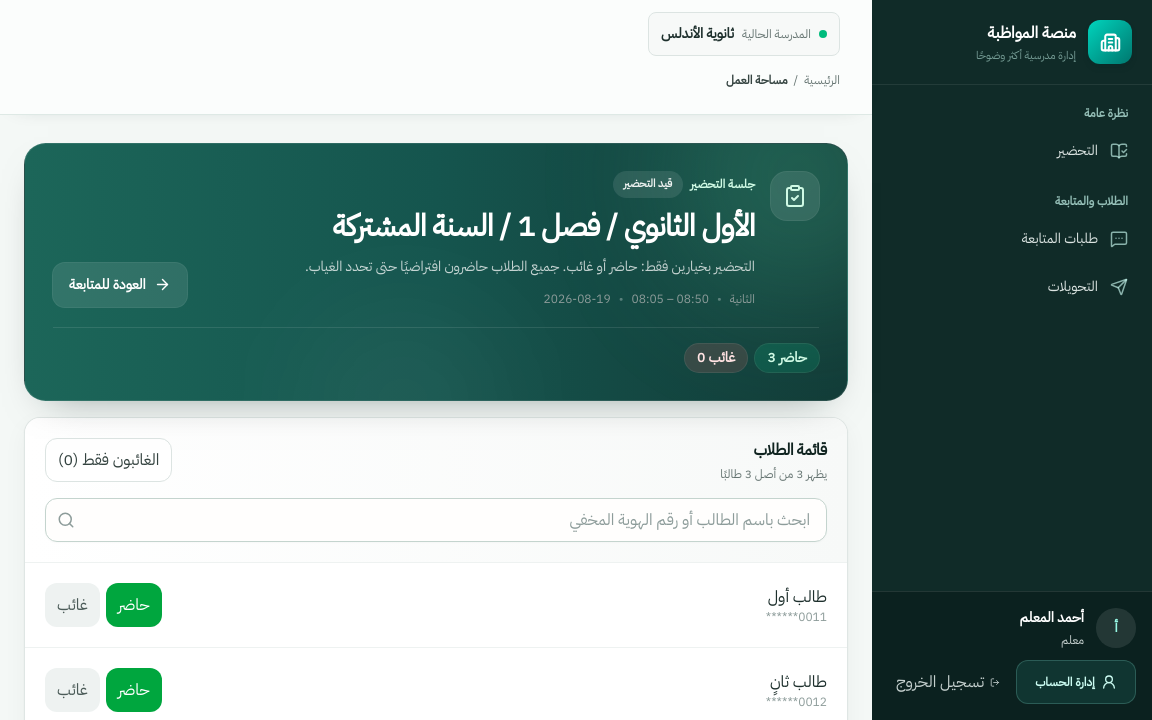
Scenario: attendance › refreshes the roster and keeps marks when the server reports ROSTER_CHANGED
The width and height of the screenshot is (1152, 720).
What coordinates should you click on to do the following:
click the button "غائب" in the row of "طالب أول"
I would click on:
 (72, 604)
Its box is [45, 582, 100, 626].
(page scrolled)
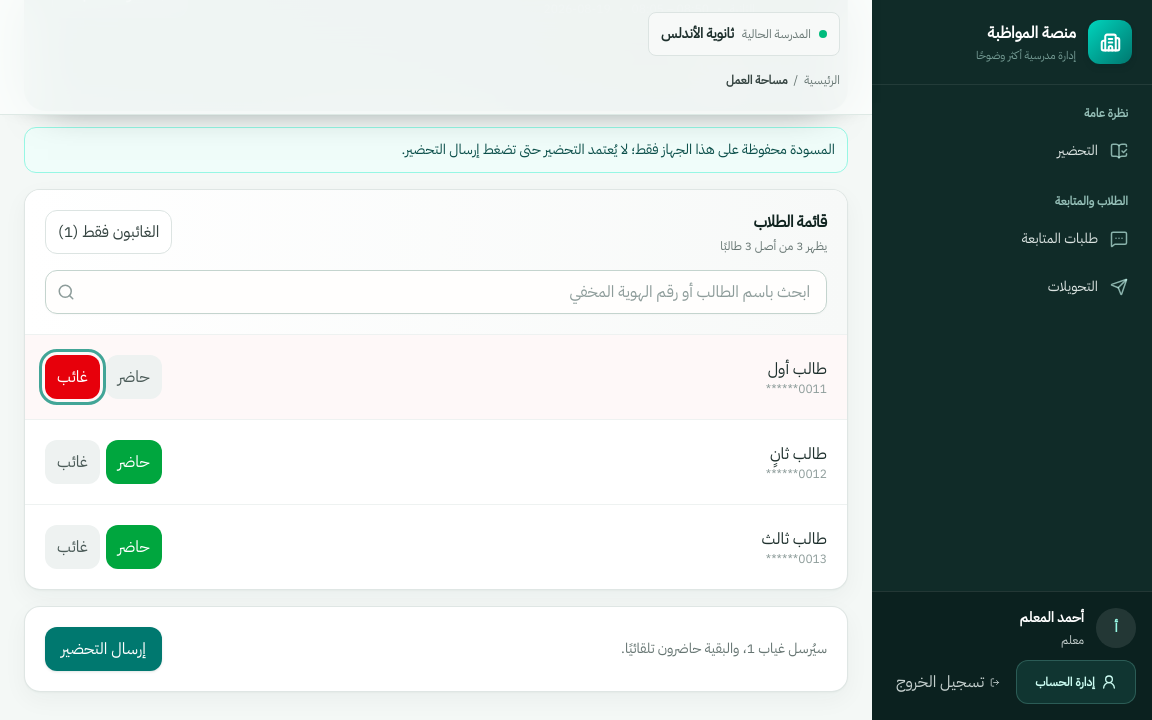
What coordinates should you click on to do the following:
click the button with test id "submit-attendance"
I would click on:
 (103, 648)
Its box is [45, 626, 162, 670].
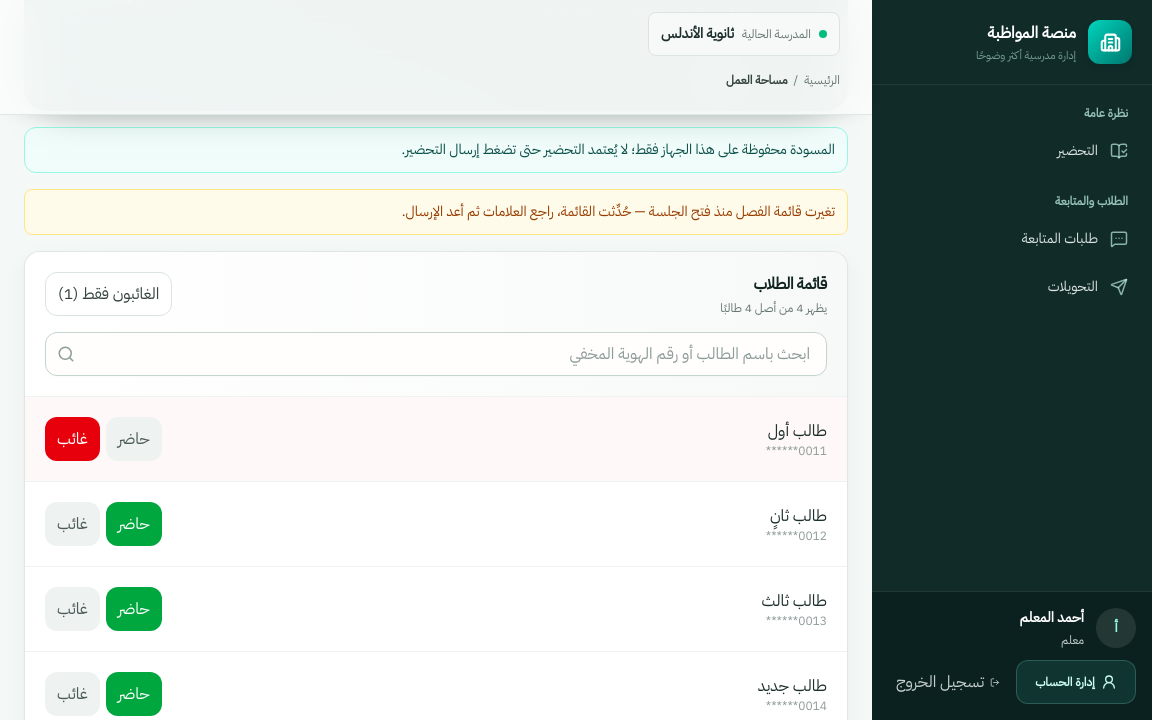
Expected: the message with test id "roster-changed-notice" is shown, [24, 188, 848, 234]
Expected: the list item with test id "roster-student-14" is shown, [45, 672, 827, 716]
